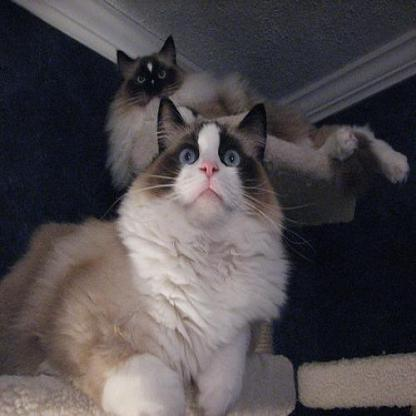cat: (0, 104, 290, 415), (108, 37, 408, 185)
